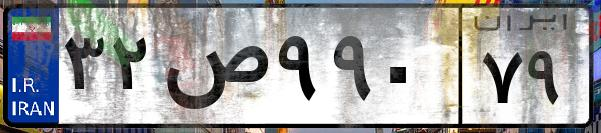0: (385, 28, 445, 110)
2: (110, 28, 158, 98)
3: (57, 26, 110, 100)
7: (475, 38, 525, 113)
9: (270, 28, 330, 110), (330, 28, 385, 110), (525, 38, 570, 115)
ص: (158, 20, 270, 120)
